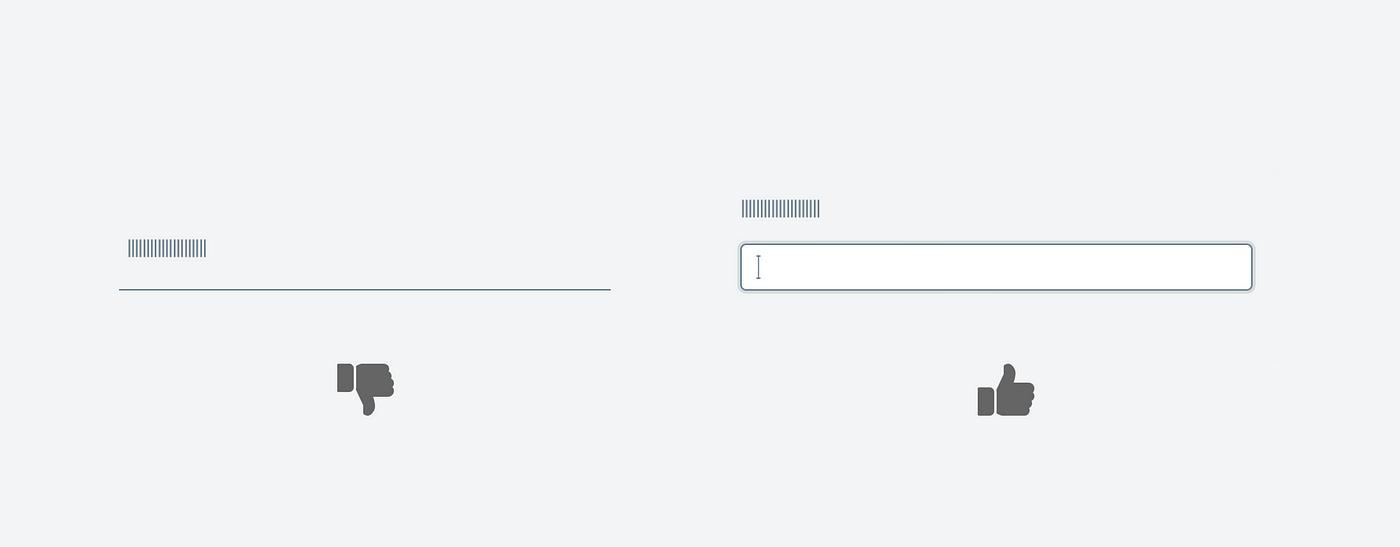icon: (334, 358, 404, 417), (973, 364, 1041, 419)
input: (742, 242, 1256, 292)
